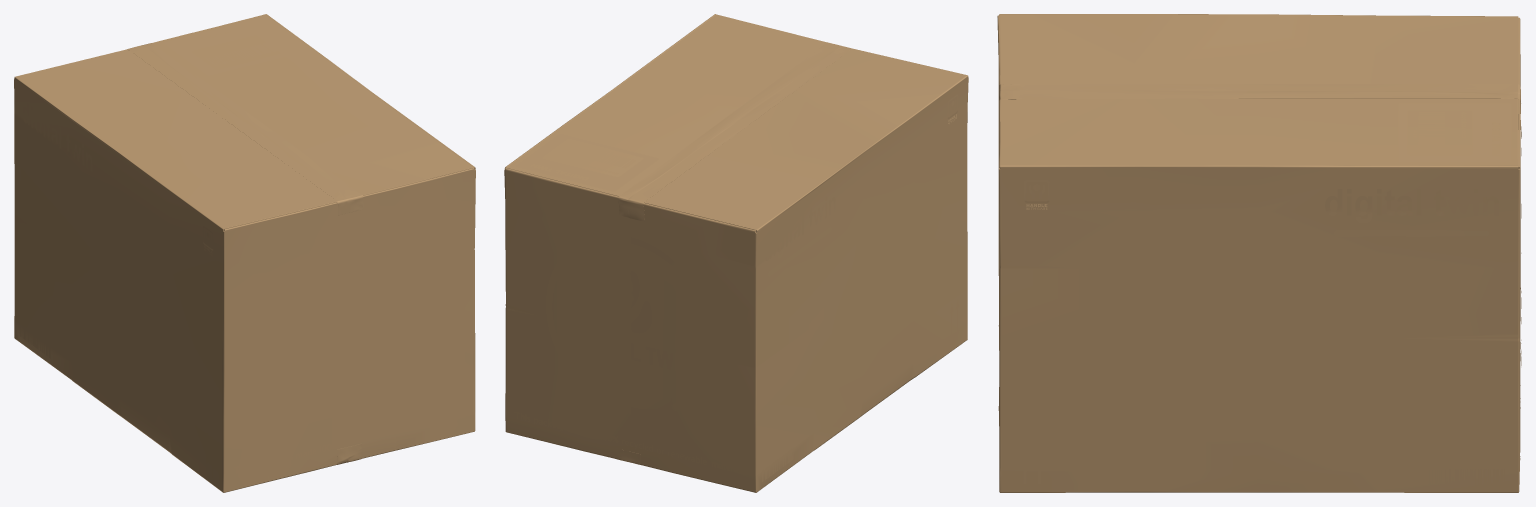
Rendered from box_corrugated_white_b26.glb.
The picture shows the model from 3 angles, left to right: view 1: azimuth 30°, elevation 25°; view 2: azimuth 150°, elevation 25°; view 3: azimuth 270°, elevation 25°; orthographic projection. The views are drawn at different scales.
Bounding box in the file's own units: 0.253 × 0.2529 × 0.3657.
